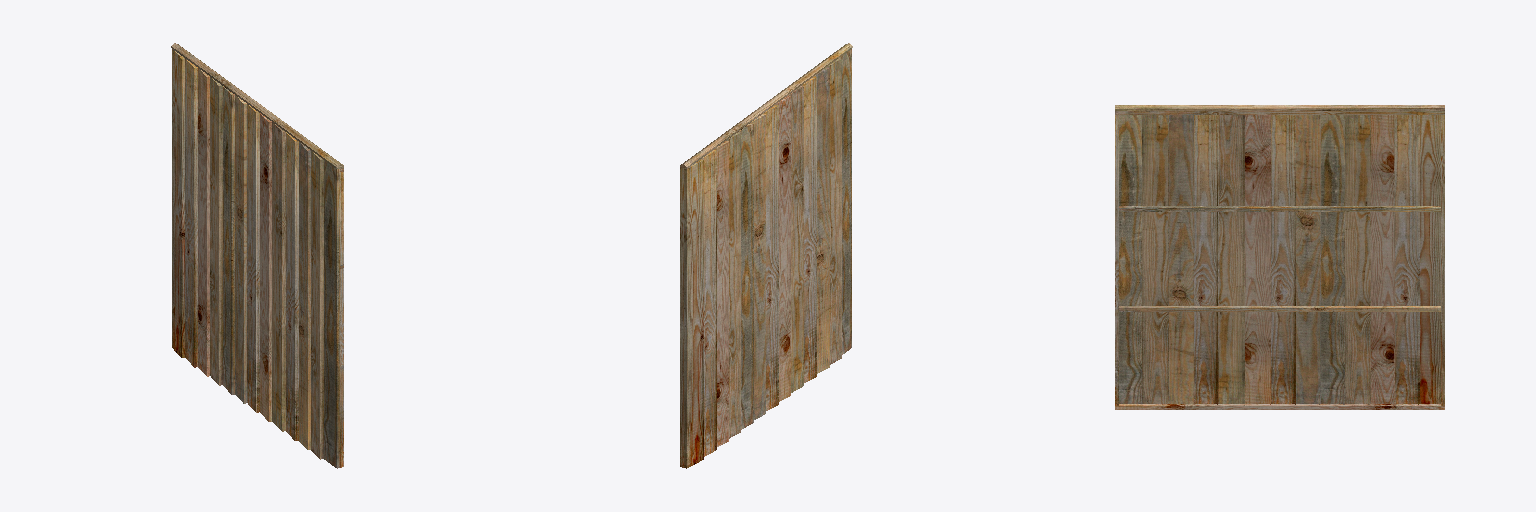
The picture shows the model from 3 angles: view 1: azimuth 30°, elevation 25°; view 2: azimuth 150°, elevation 25°; view 3: azimuth 270°, elevation 25°; orthographic projection.
Parts seen in each view (by area): view 1: Object_Frame_Panel_a_skin_a2.jpg, Object_Frame_Panel_a_skin_a4.jpg, Object_Frame_Panel_a_skin_a5.jpg, Object_Frame_Panel_a_skin_a6.jpg, Object_Frame_Panel_a_skin_a3.jpg, Object_Frame_Panel_a_skin_a1.jpg, Object_Frame_finish_a1.jpg; view 2: Object_Frame_Panel_a_skin_a2.jpg, Object_Frame_Panel_a_skin_a4.jpg, Object_Frame_Panel_a_skin_a6.jpg, Object_Frame_Panel_a_skin_a3.jpg, Object_Frame_Panel_a_skin_a1.jpg, Object_Frame_Panel_a_skin_a5.jpg, Object_Frame_finish_a1.jpg; view 3: Object_Frame_Panel_a_skin_a4.jpg, Object_Frame_Panel_a_skin_a2.jpg, Object_Frame_Panel_a_skin_a3.jpg, Object_Frame_Panel_a_skin_a6.jpg, Object_Frame_Panel_a_skin_a5.jpg, Object_Frame_Panel_a_skin_a1.jpg, Object_Frame_finish_a1.jpg.
Boxes of the visible parts, box(x1,y1,x2,y2) form: Object_Frame_Panel_a_skin_a2.jpg: box(185, 59, 343, 467); Object_Frame_Panel_a_skin_a4.jpg: box(210, 77, 343, 459); Object_Frame_Panel_a_skin_a5.jpg: box(223, 86, 343, 468); Object_Frame_Panel_a_skin_a6.jpg: box(235, 95, 343, 449); Object_Frame_Panel_a_skin_a3.jpg: box(198, 68, 271, 421); Object_Frame_Panel_a_skin_a1.jpg: box(172, 49, 184, 357); Object_Frame_finish_a1.jpg: box(171, 43, 343, 168); Object_Frame_Panel_a_skin_a2.jpg: box(702, 76, 816, 456); Object_Frame_Panel_a_skin_a4.jpg: box(727, 58, 841, 438); Object_Frame_Panel_a_skin_a6.jpg: box(751, 67, 829, 419); Object_Frame_Panel_a_skin_a3.jpg: box(714, 95, 790, 446); Object_Frame_Panel_a_skin_a1.jpg: box(680, 159, 703, 468); Object_Frame_Panel_a_skin_a5.jpg: box(739, 49, 851, 429); Object_Frame_finish_a1.jpg: box(680, 43, 852, 168); Object_Frame_Panel_a_skin_a4.jpg: box(1115, 111, 1444, 404); Object_Frame_Panel_a_skin_a2.jpg: box(1115, 115, 1419, 405); Object_Frame_Panel_a_skin_a3.jpg: box(1115, 115, 1444, 409); Object_Frame_Panel_a_skin_a6.jpg: box(1119, 115, 1440, 404); Object_Frame_Panel_a_skin_a5.jpg: box(1119, 115, 1440, 404); Object_Frame_Panel_a_skin_a1.jpg: box(1420, 115, 1444, 405); Object_Frame_finish_a1.jpg: box(1115, 105, 1444, 110).
Size of the model in its own units: 0.0901 by 2.5 by 2.47.
21 materials, 7 textured.